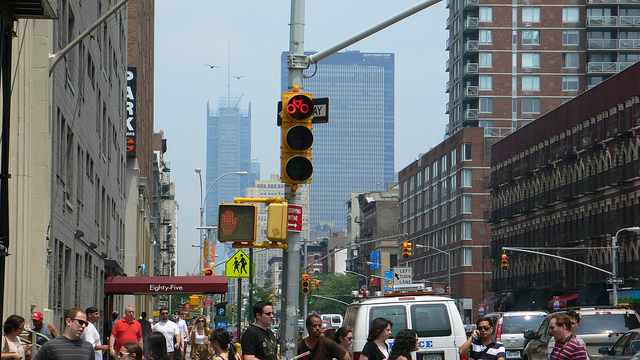Person: (250, 302, 284, 360)
